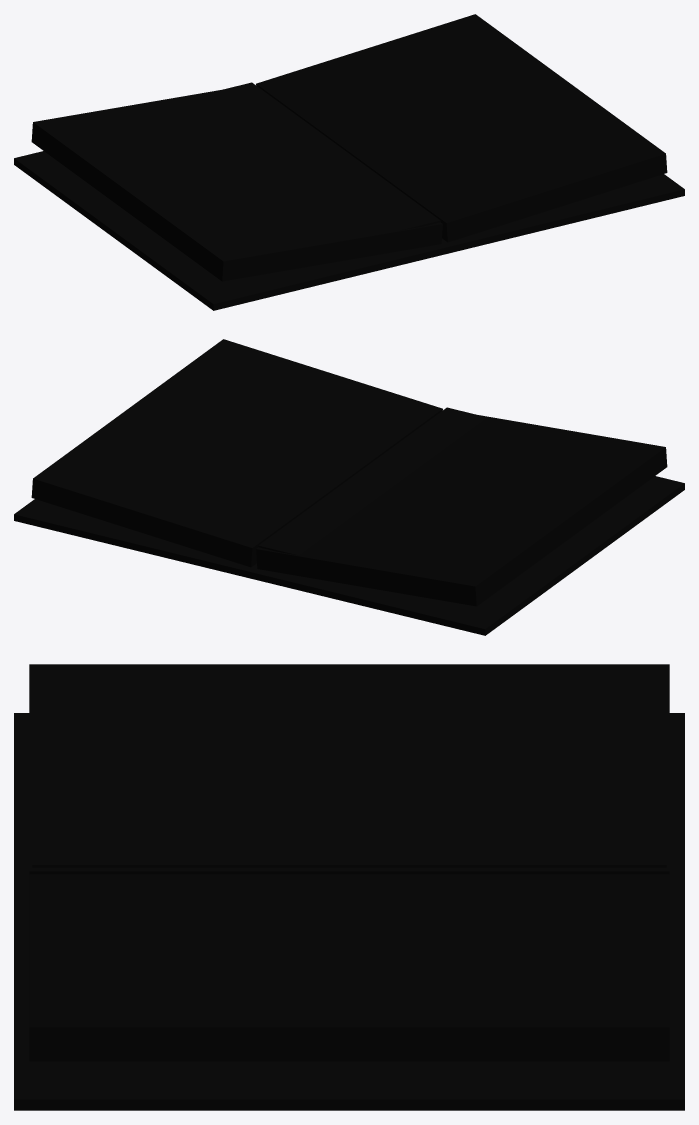
The model's file is SM_book_open.fbx.
The picture shows the model from 3 angles, top to bottom: view 1: azimuth 30°, elevation 25°; view 2: azimuth 150°, elevation 25°; view 3: azimuth 270°, elevation 25°; orthographic projection. The views are drawn at different scales.
Visible parts, largest first — view 1: book_open, book_open_page; view 2: book_open, book_open_page; view 3: book_open, book_open_page.
Part boxes in pixels (bbox=[...]): book_open: bbox=[14, 14, 684, 310]; book_open_page: bbox=[211, 82, 440, 230]; book_open: bbox=[14, 339, 684, 635]; book_open_page: bbox=[258, 407, 487, 555]; book_open: bbox=[14, 664, 684, 1110]; book_open_page: bbox=[32, 831, 666, 867].
Bounding box in the file's own units: 0.3 × 0.0259 × 0.22.
